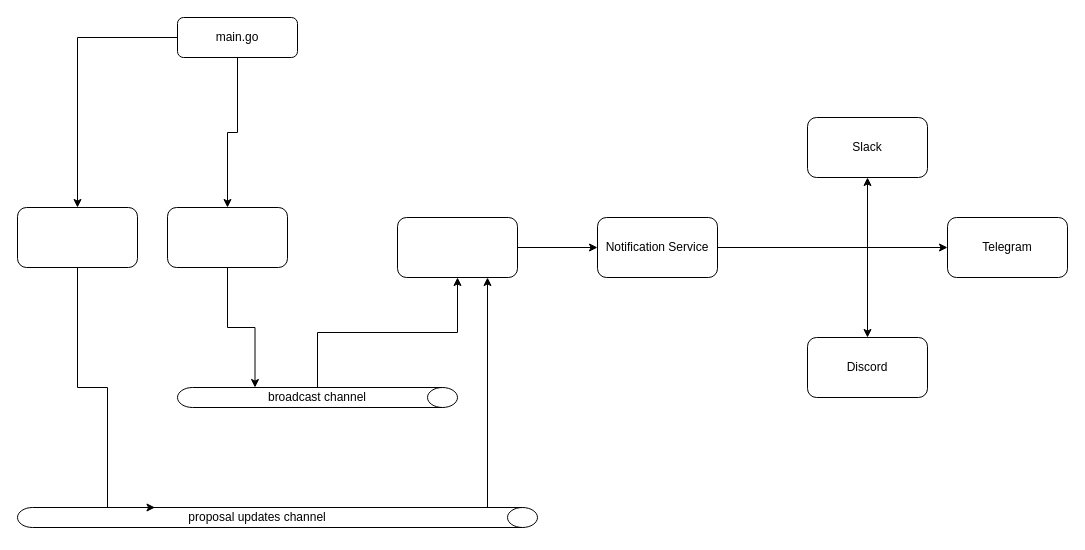
The diagram is 1085 pixels wide and 550 high, and some of its shapes have lost their labels. The centre of each missing label's shape, as x and y in pixels:
broadcast: (x=227, y=237)
CommsEngine: (x=457, y=247)
govService: (x=77, y=237)
